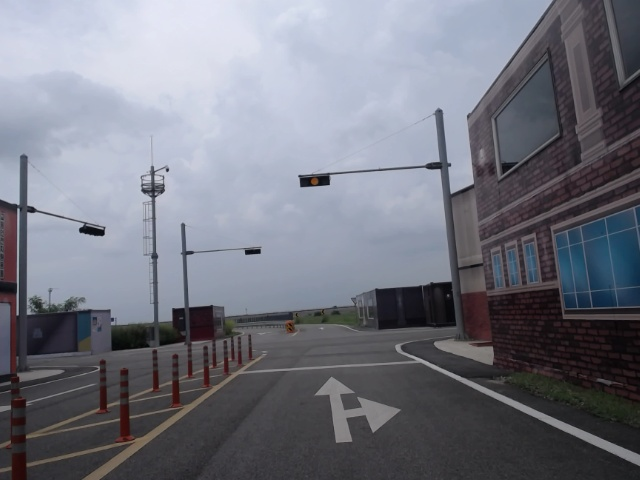orange_3: (299, 174, 330, 187)
